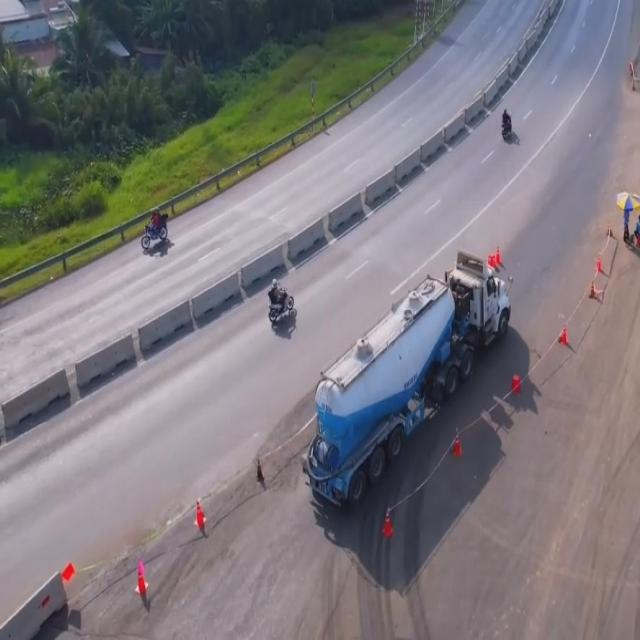motorbike: (268, 274, 298, 339), (142, 208, 170, 255), (501, 110, 512, 142)
truck: (302, 248, 514, 510)
